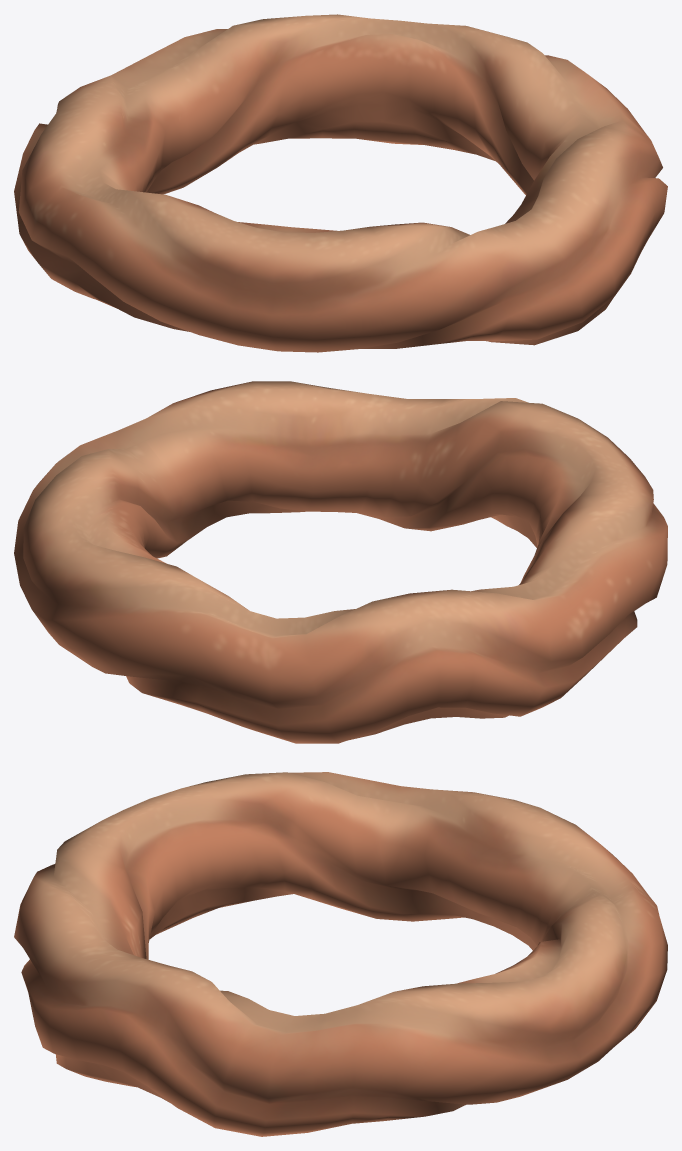
Rendered from sugar_ring_0.fbx.
3 views of the same model, one above another, from view 1: azimuth 30°, elevation 25°; view 2: azimuth 150°, elevation 25°; view 3: azimuth 270°, elevation 25° (orthographic).
Visible parts, largest first — view 1: cake_ring; view 2: cake_ring; view 3: cake_ring.
Part boxes in pixels (bbox=[...]): cake_ring: bbox=[14, 14, 667, 352]; cake_ring: bbox=[14, 381, 667, 743]; cake_ring: bbox=[14, 772, 667, 1136].
Size of the model in its own units: 14.99 by 3.59 by 14.96.
